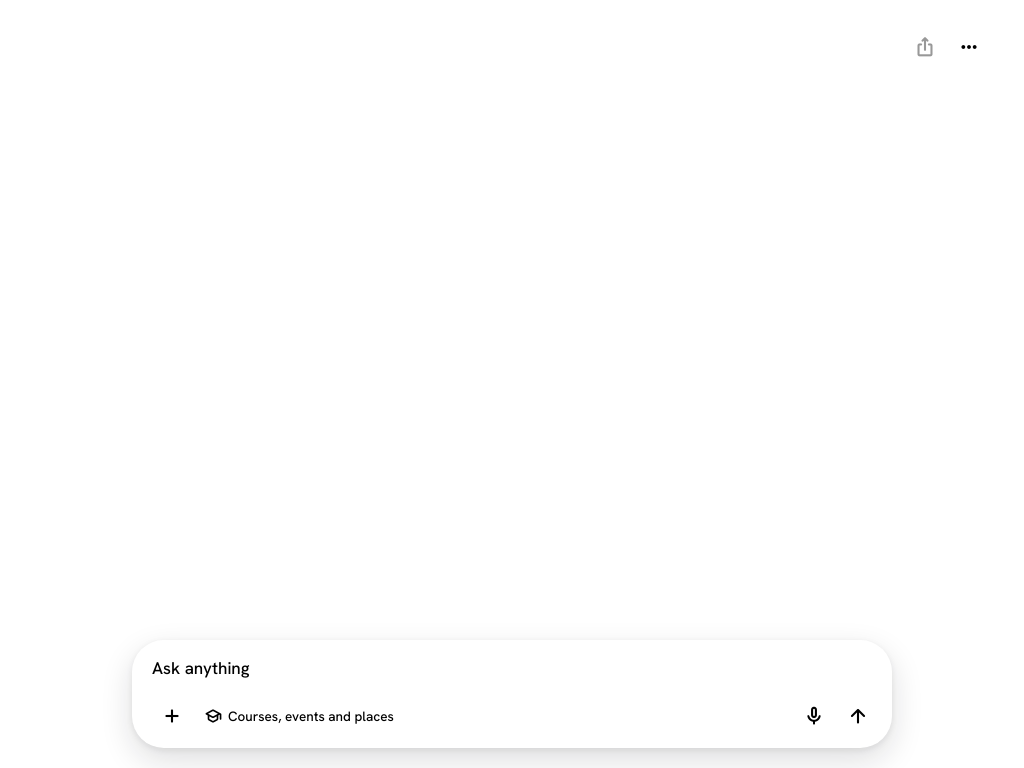
Test: the composer has no suggestion chips and says "Ask a follow-up" mid-thread
Type "Plan my semester" into the text box named "Message" at coordinates (511, 669), box [152, 656, 870, 682]
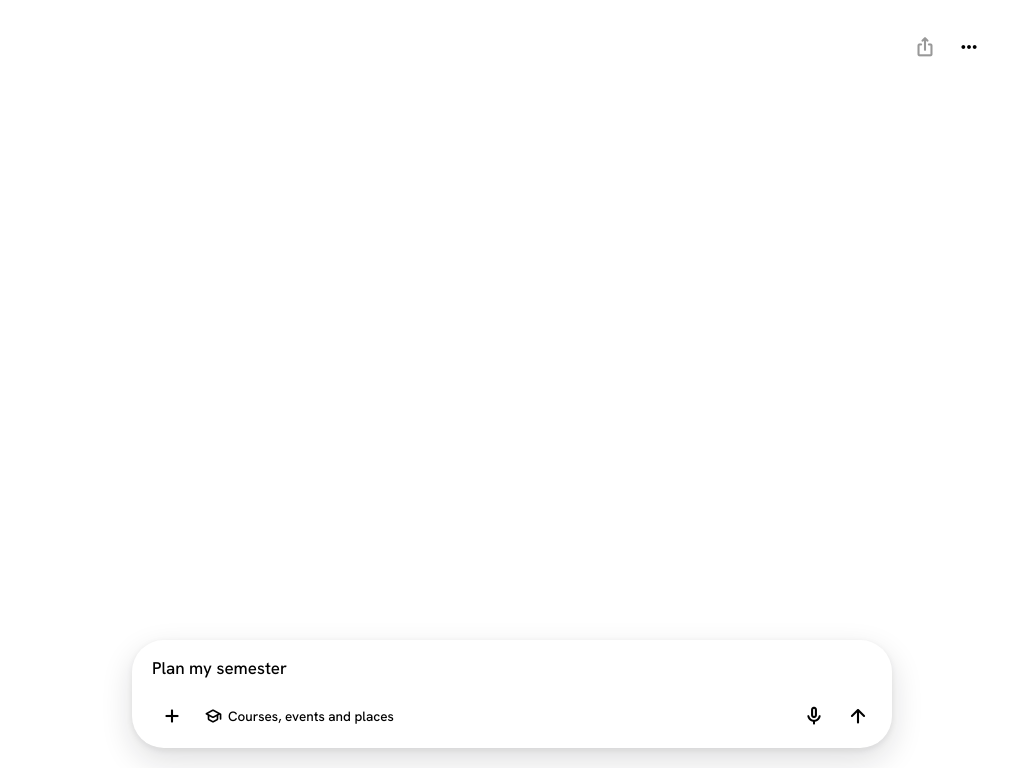
Click the button named "Send" at coordinates (858, 716), box [838, 696, 878, 736]
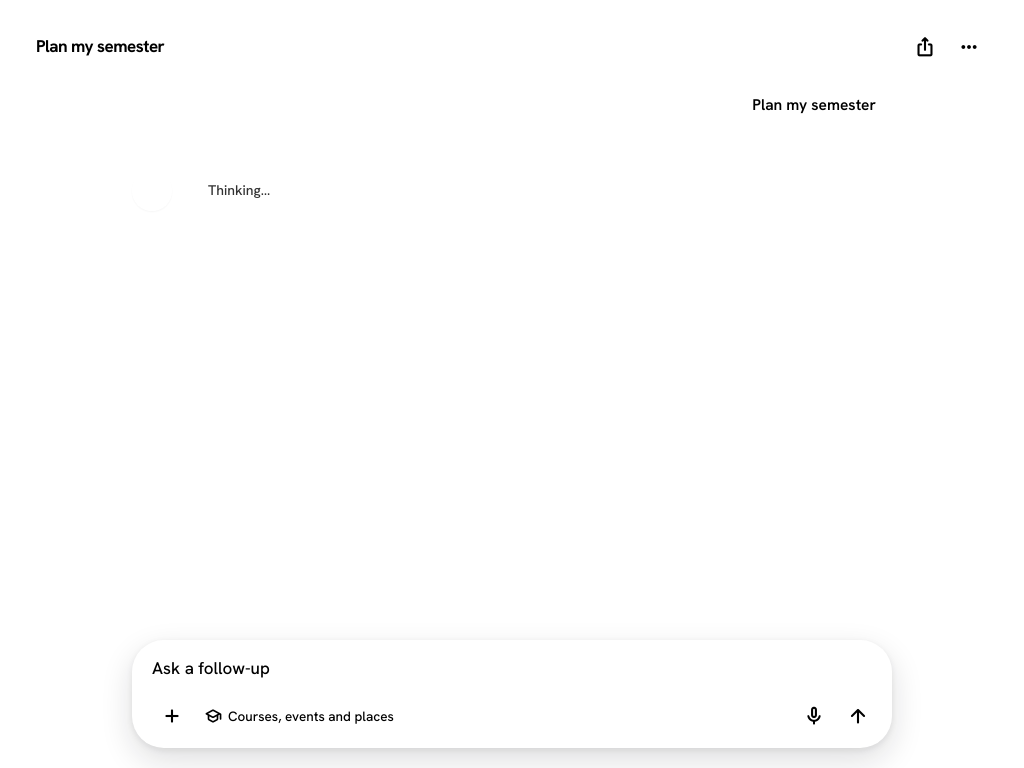
Check: the heading reads "Plan my semester", box [36, 35, 164, 57]
